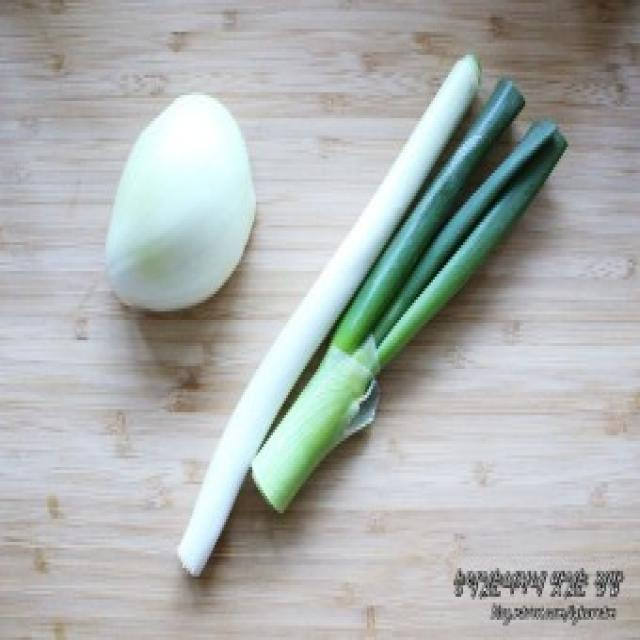onion: (91, 79, 262, 310)
